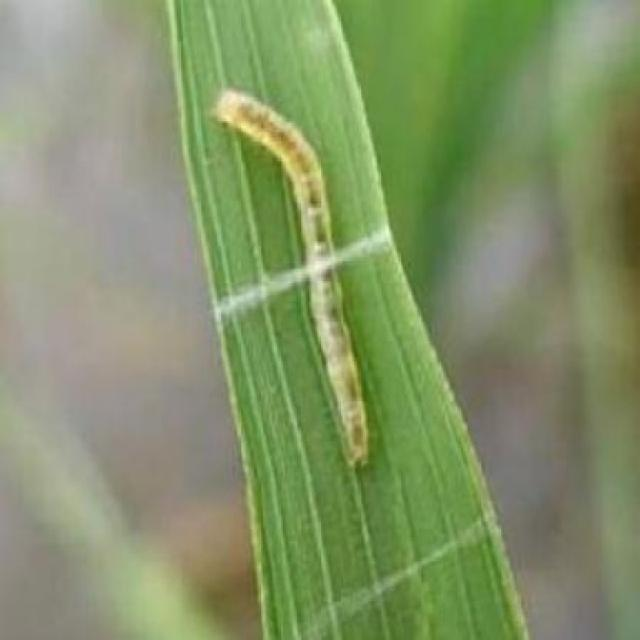leaf-folder: (185, 64, 412, 493)
